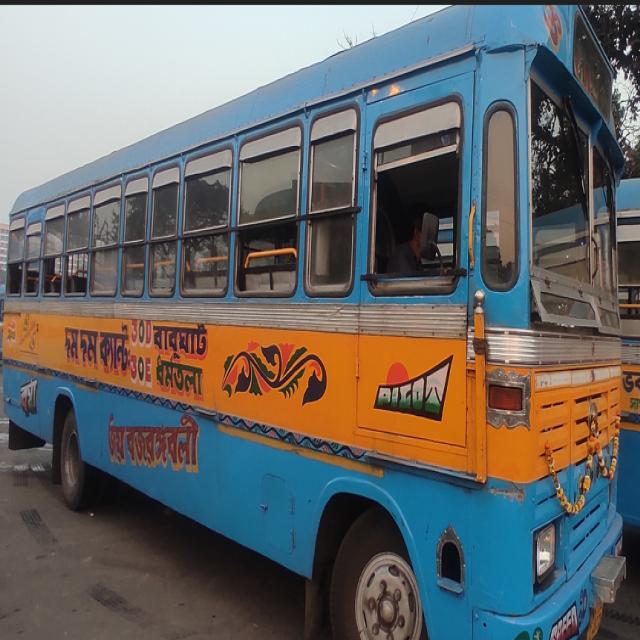bus: (1, 1, 629, 640)
